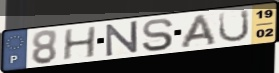8: (30, 29, 59, 65)
A: (178, 13, 219, 50)
H: (61, 25, 98, 62)
N: (104, 19, 140, 58)
S: (140, 17, 176, 53)
U: (216, 8, 251, 44)
